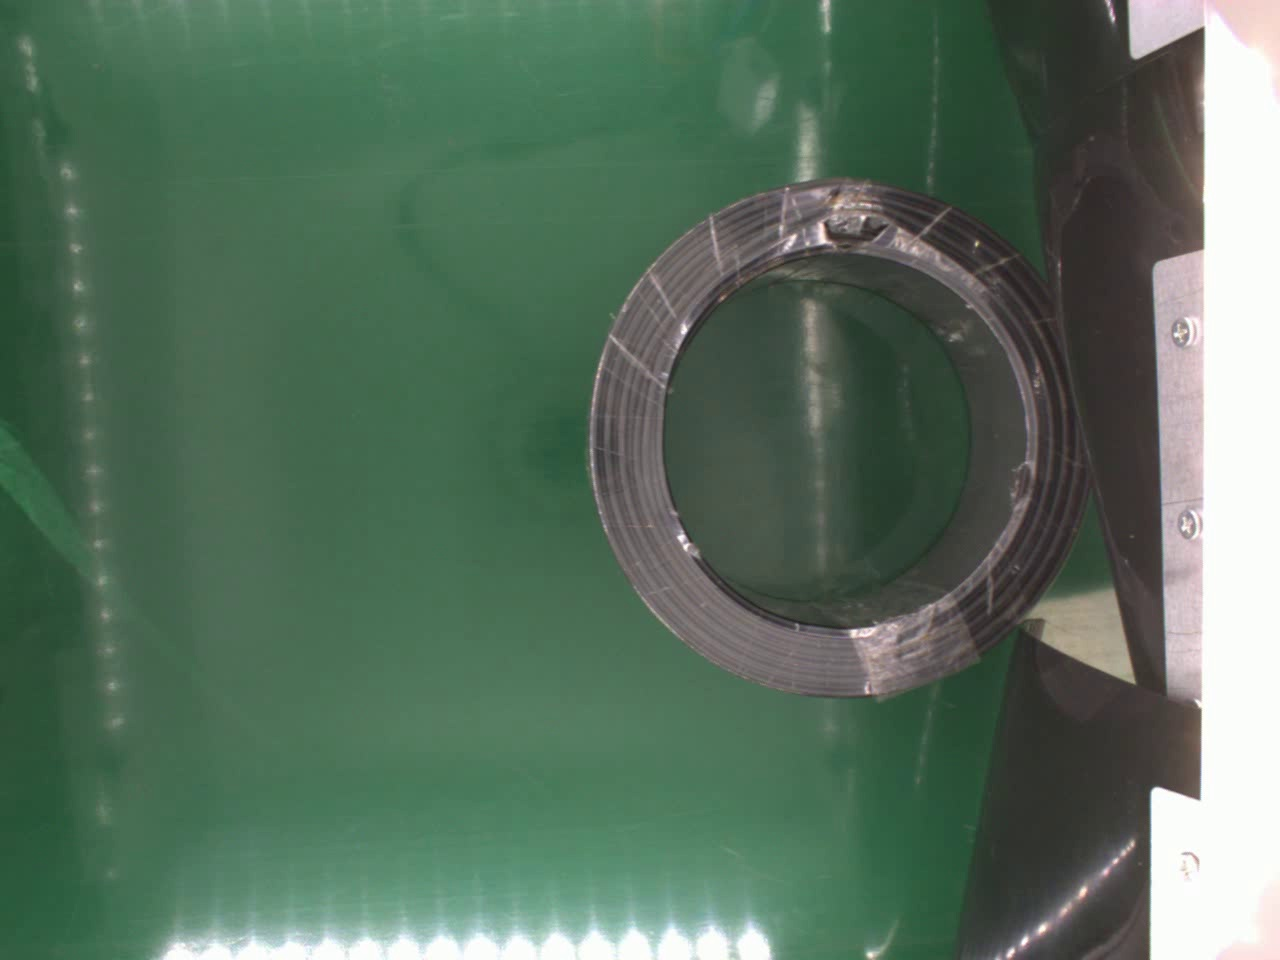black: (583, 176, 1089, 701)
